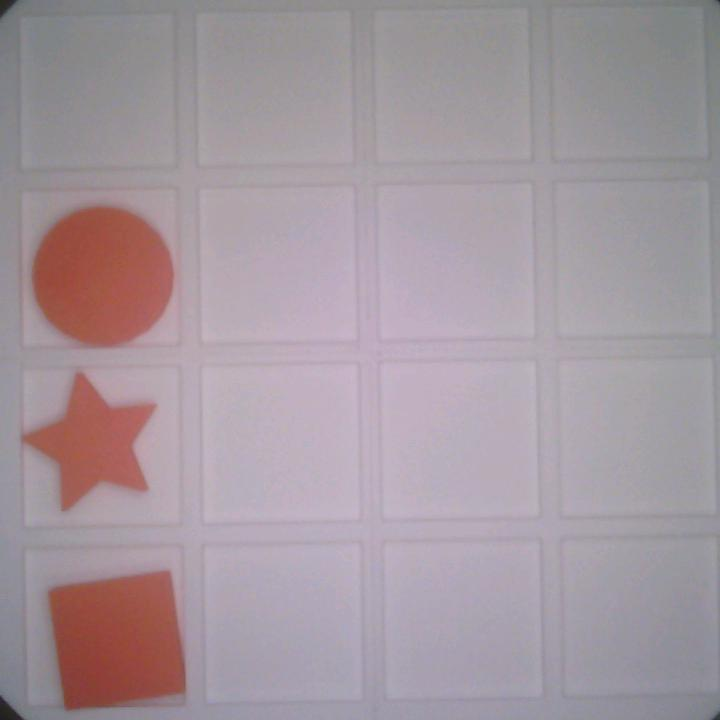Orange circle: (28, 201, 175, 343)
Orange square: (40, 564, 191, 708)
Orange star: (19, 372, 159, 524)
